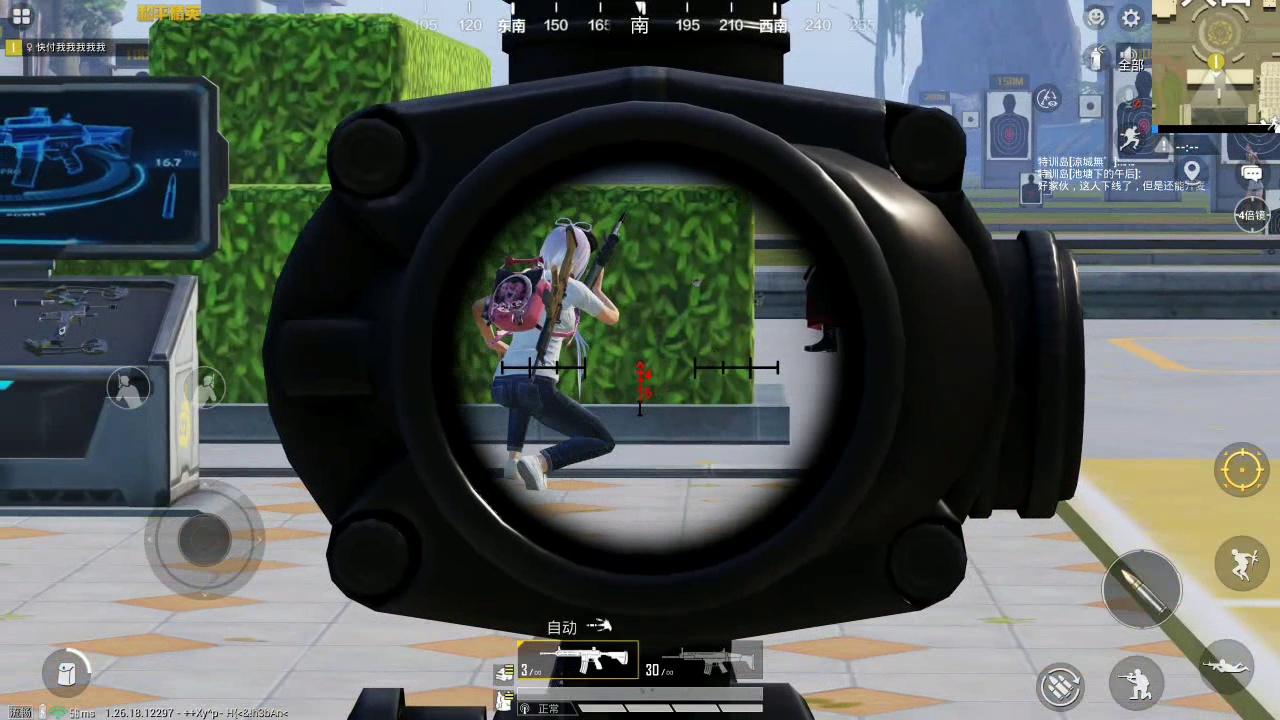enemy: (489, 222, 613, 498), (798, 249, 847, 356)
